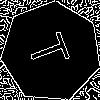T: (25, 26, 79, 72)
